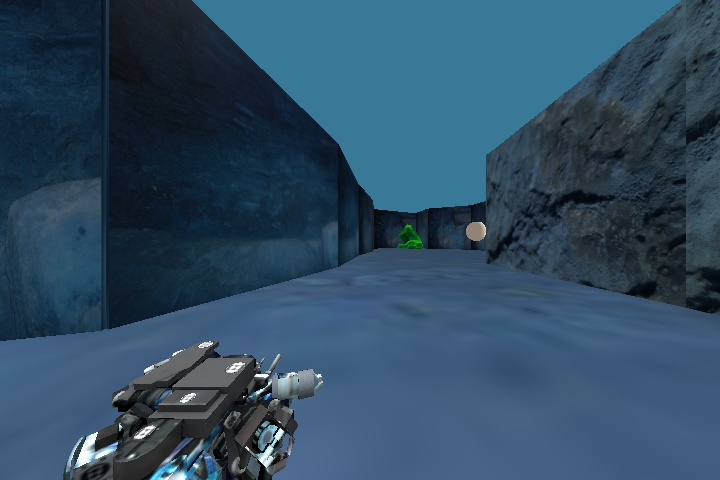green_crystal: (389, 216, 427, 252)
white_sphere: (458, 213, 491, 247)
